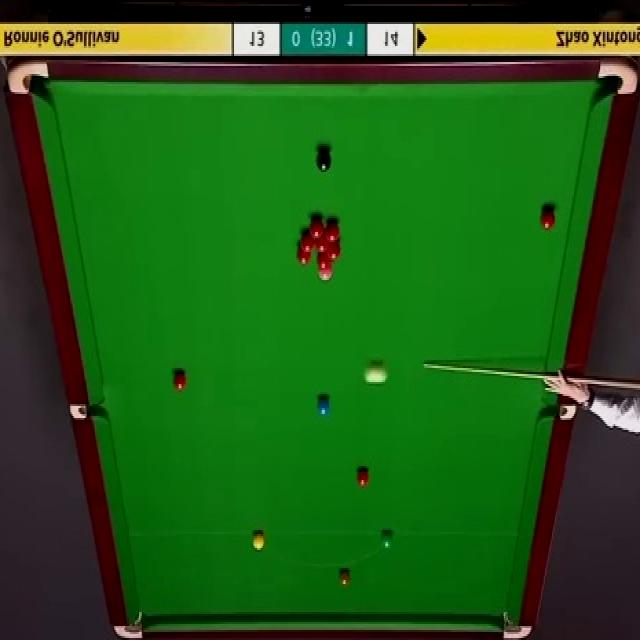black-ball: (316, 150, 333, 173)
blue-ball: (317, 397, 330, 416)
brown-ball: (338, 569, 350, 587)
green-ball: (380, 530, 393, 551)
pink-ball: (318, 266, 332, 282)
red-ball: (540, 208, 555, 231), (317, 234, 332, 256), (172, 370, 187, 392), (325, 221, 339, 242), (310, 221, 324, 241), (356, 466, 369, 487), (298, 247, 310, 264), (330, 242, 340, 261), (302, 240, 316, 252), (317, 254, 330, 265)
white-ball: (369, 363, 383, 383)
yellow-ball: (252, 532, 264, 550)
